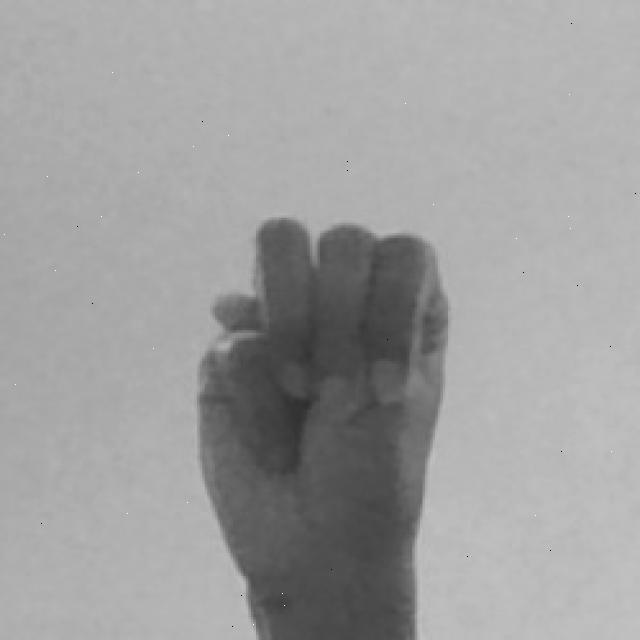M: (195, 210, 460, 640)
